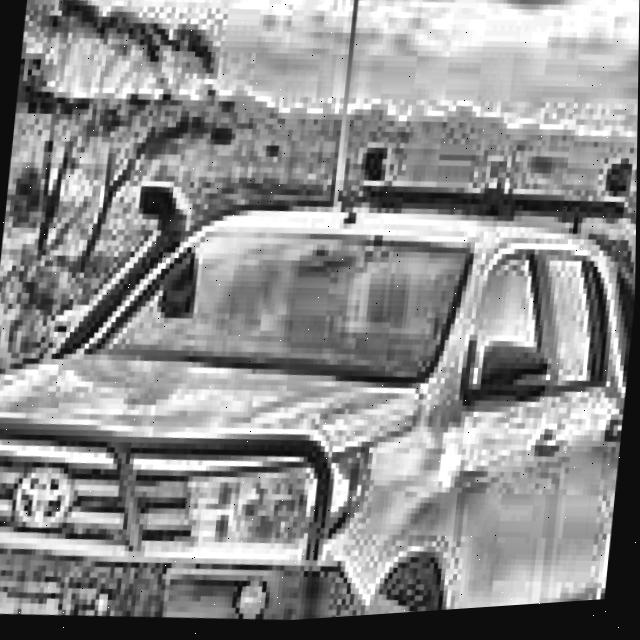light_vehicle: (0, 106, 638, 640)
